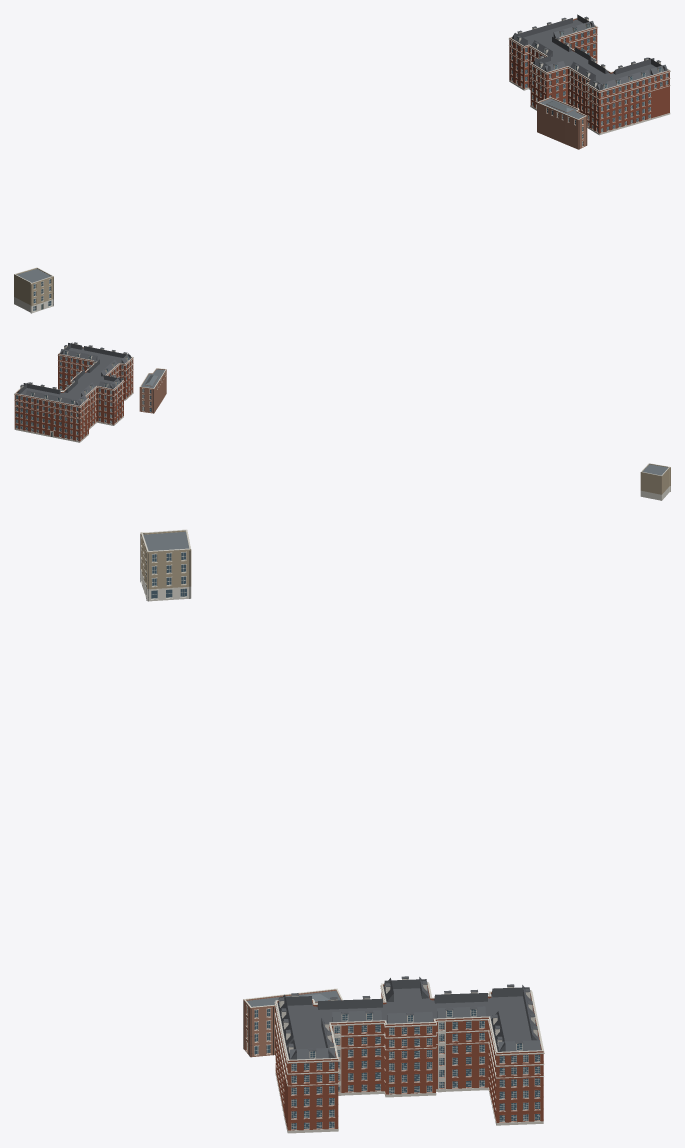
The model's file is replacement.glb.
3 renders of one model, top to bottom at view 1: azimuth 30°, elevation 25°; view 2: azimuth 150°, elevation 25°; view 3: azimuth 270°, elevation 25°, orthographic. The views are drawn at different scales.
Visible parts, largest first — view 1: Princes Gate Court | pierced red brick facades, Princes Gate Court | inset sloping roof ranges, Princes Gate Court | recessed courtyard sashes, Albert Close 642055723 | pierced masonry, Princes Gate Court | complete concave roof deck, Princes Gate Court | white sash frames, Princes Gate Court | upper stone string courses, Jay Mews 117010293 | pierced masonry.001, Princes Gate Court | small pane glazing bars, Princes Gate Court | stone window sills, Princes Gate Court | subtle brick headers; view 2: Princes Gate Court | pierced red brick facades, Princes Gate Court | inset sloping roof ranges, Princes Gate Court | recessed courtyard sashes, Princes Gate Court | complete concave roof deck, Princes Gate Court | white sash frames, Albert Close 642055723 | pierced masonry, Princes Gate Court | small pane glazing bars, Princes Gate Court | upper stone string courses, Jay Mews 117010293 | pierced masonry.001, Princes Gate Court | stone window sills, Princes Gate Court | subtle brick headers, Princes Gate Court | stone parapet coping (+1 smaller); view 3: Princes Gate Court | pierced red brick facades, Princes Gate Court | inset sloping roof ranges, Princes Gate Court | recessed courtyard sashes, Princes Gate Court | complete concave roof deck, Princes Gate Court | upper stone string courses, Princes Gate Court | white sash frames, Princes Gate Court | small pane glazing bars, Jay Mews 117010293 | pierced masonry.001, Albert Close 642055723 | pierced masonry, Princes Gate Court | stone window sills, Princes Gate Court | stone parapet coping, Princes Gate Court | subtle brick headers (+1 smaller).
Part boxes in pixels (x1,y1,x2,y2): Princes Gate Court | pierced red brick facades: [509, 19, 669, 133]; Princes Gate Court | inset sloping roof ranges: [512, 14, 667, 90]; Princes Gate Court | recessed courtyard sashes: [511, 29, 667, 131]; Albert Close 642055723 | pierced masonry: [537, 98, 587, 149]; Princes Gate Court | complete concave roof deck: [523, 19, 655, 83]; Princes Gate Court | white sash frames: [511, 29, 668, 132]; Princes Gate Court | upper stone string courses: [509, 27, 670, 106]; Jay Mews 117010293 | pierced masonry.001: [14, 268, 53, 306]; Princes Gate Court | small pane glazing bars: [511, 31, 667, 131]; Princes Gate Court | stone window sills: [510, 34, 668, 132]; Princes Gate Court | subtle brick headers: [510, 29, 668, 128]; Princes Gate Court | pierced red brick facades: [14, 355, 133, 441]; Princes Gate Court | inset sloping roof ranges: [17, 342, 131, 405]; Princes Gate Court | recessed courtyard sashes: [16, 356, 128, 440]; Princes Gate Court | complete concave roof deck: [20, 348, 122, 400]; Princes Gate Court | white sash frames: [15, 356, 132, 440]; Albert Close 642055723 | pierced masonry: [139, 369, 166, 413]; Princes Gate Court | small pane glazing bars: [16, 356, 131, 439]; Princes Gate Court | upper stone string courses: [14, 355, 133, 419]; Jay Mews 117010293 | pierced masonry.001: [640, 464, 670, 494]; Princes Gate Court | stone window sills: [15, 360, 132, 441]; Princes Gate Court | subtle brick headers: [15, 355, 132, 437]; Princes Gate Court | stone parapet coping: [14, 345, 133, 406]; Princes Gate Court | pierced red brick facades: [275, 986, 543, 1130]; Princes Gate Court | inset sloping roof ranges: [278, 977, 540, 1059]; Princes Gate Court | recessed courtyard sashes: [291, 1021, 539, 1129]; Princes Gate Court | complete concave roof deck: [277, 986, 541, 1059]; Princes Gate Court | upper stone string courses: [274, 983, 544, 1086]; Princes Gate Court | white sash frames: [291, 1021, 540, 1129]; Princes Gate Court | small pane glazing bars: [292, 1021, 539, 1129]; Jay Mews 117010293 | pierced masonry.001: [140, 531, 191, 589]; Albert Close 642055723 | pierced masonry: [243, 990, 341, 1057]; Princes Gate Court | stone window sills: [275, 996, 543, 1130]; Princes Gate Court | stone parapet coping: [275, 982, 543, 1060]; Princes Gate Court | subtle brick headers: [275, 1020, 540, 1123].
Size of the model in its own units: 325 by 21.98 by 99.98.
